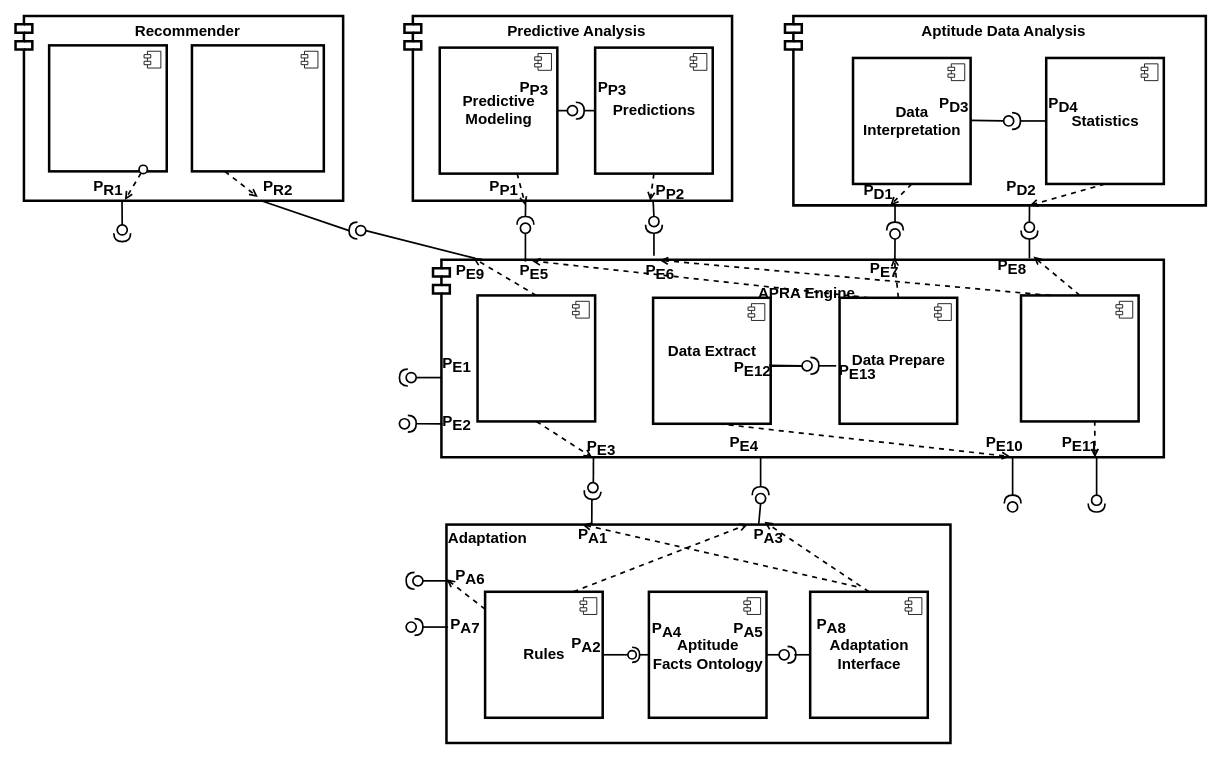
This 1221x759 diagram has some shape labels left out. Here are the shapes that lost their labels. From the top down, the centre of each, then its label:
At point (107, 108): "Text Extractor".
At point (257, 108): "Recommendation Interface".
At point (536, 358): "Reasoner".
At point (1079, 358): "Data Visualization".
